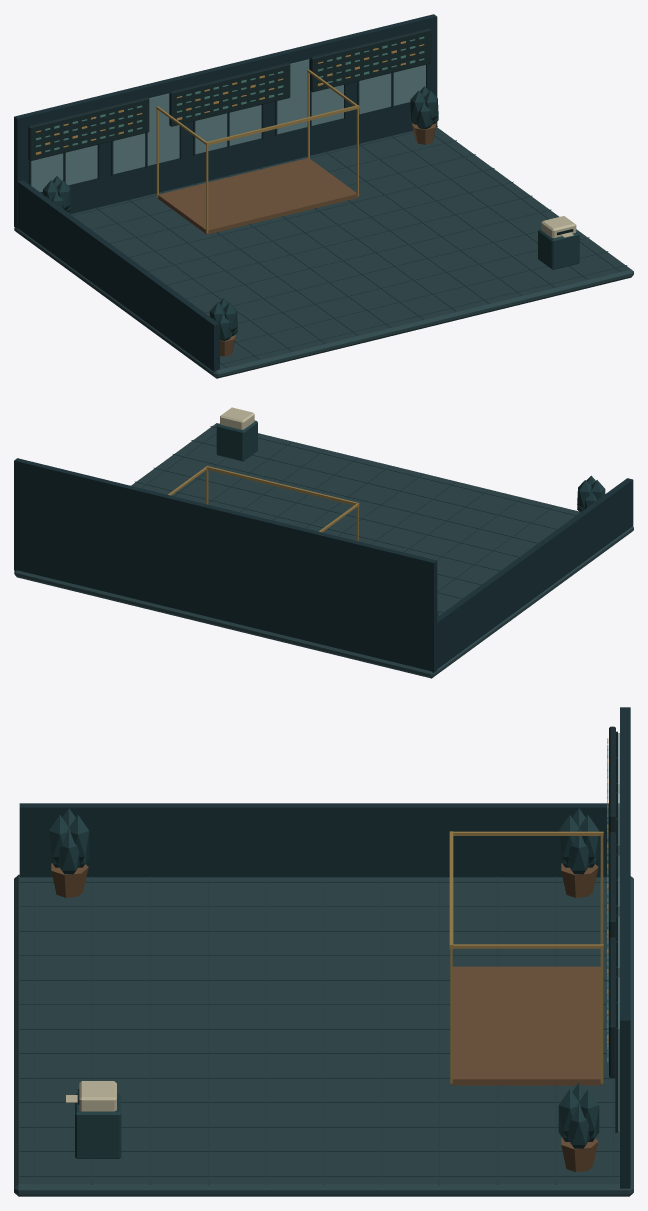
The model's file is room.glb.
The picture shows the model from 3 angles, top to bottom: view 1: azimuth 30°, elevation 25°; view 2: azimuth 150°, elevation 25°; view 3: azimuth 270°, elevation 25°; orthographic projection. The views are drawn at different scales.
Visible parts, largest first — view 1: TradingRoom; view 2: TradingRoom; view 3: TradingRoom.
Part boxes in pixels (left/top/right/bottom): TradingRoom: left=14, top=14, right=633, bottom=378; TradingRoom: left=14, top=407, right=633, bottom=678; TradingRoom: left=14, top=707, right=633, bottom=1196.
Bounding box in the file's own units: 12.8 × 3.39 × 10.7.
